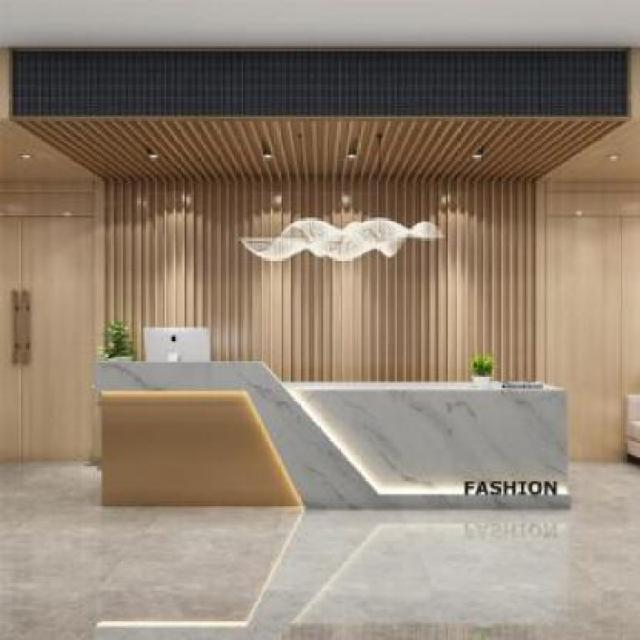frontdesk: (86, 312, 581, 516)
